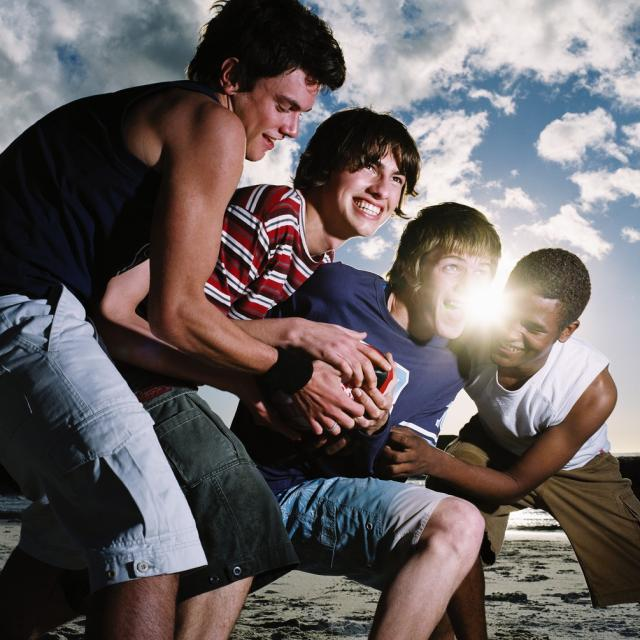body: (0, 0, 351, 639), (0, 105, 420, 639), (155, 198, 516, 640), (379, 247, 639, 638)
